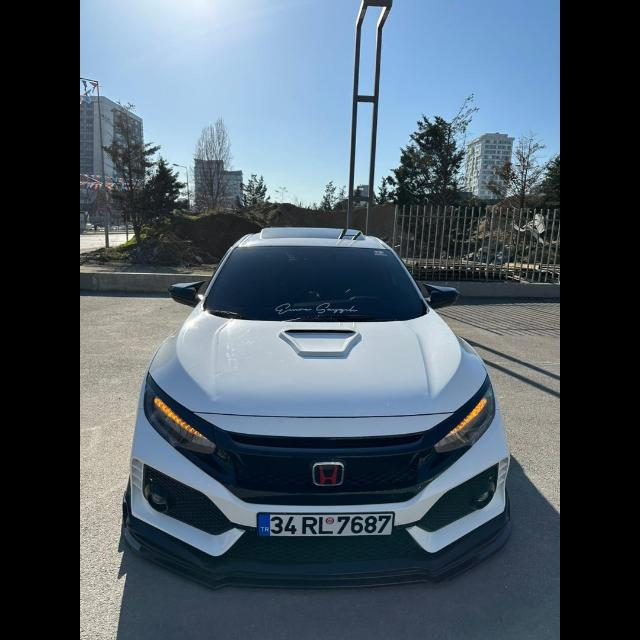Plaka: (256, 512, 394, 536)
